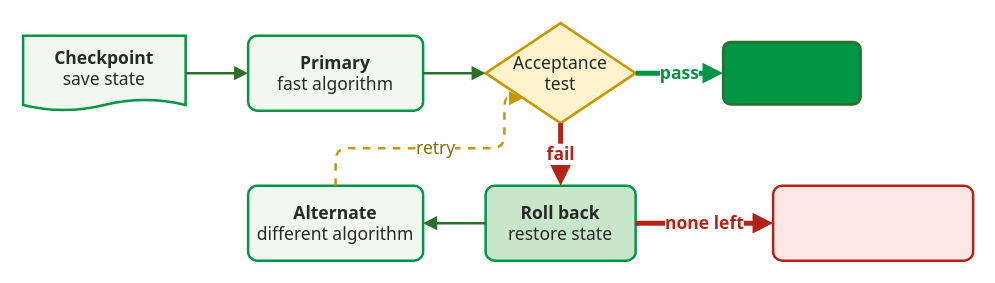
The diagram is 995 pixels wide and 283 high, and some of its shapes have lost their labels. Each missing label, with the centre of its shape:
"All alternates failed raise exception" belongs at pixel 872 222.
"Output" belongs at pixel 791 72.
